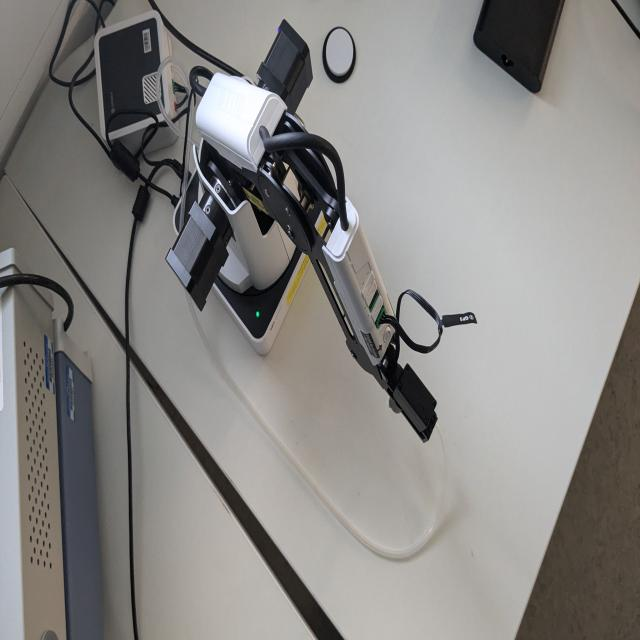Robot-end-effector-HF8z: (384, 358, 440, 448)
